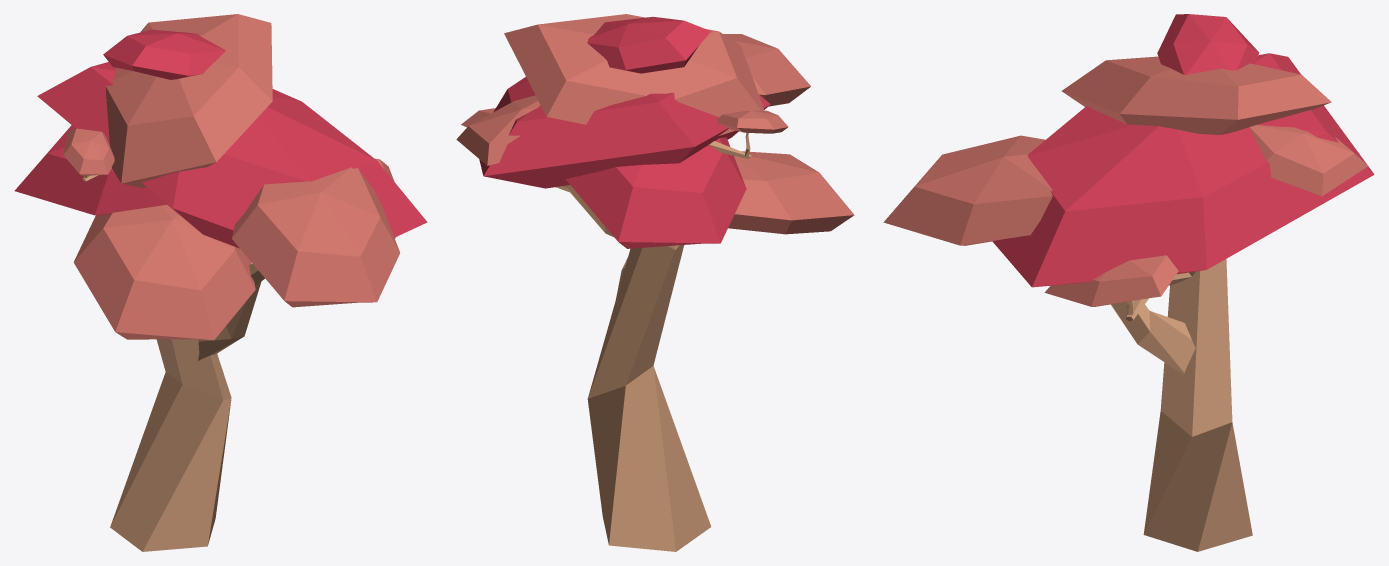
File: Tree3_Rot270.fbx
The picture shows the model from 3 angles, left to right: view 1: azimuth 30°, elevation 25°; view 2: azimuth 150°, elevation 25°; view 3: azimuth 270°, elevation 25°; orthographic projection. The views are drawn at different scales.
Visible parts, largest first — view 1: Cylinder.003; view 2: Cylinder.003; view 3: Cylinder.003.
Part boxes in pixels (bbox=[...]): Cylinder.003: bbox=[14, 14, 427, 551]; Cylinder.003: bbox=[456, 14, 854, 551]; Cylinder.003: bbox=[883, 14, 1374, 551].
Size of the model in its own units: 407 by 588 by 522.
